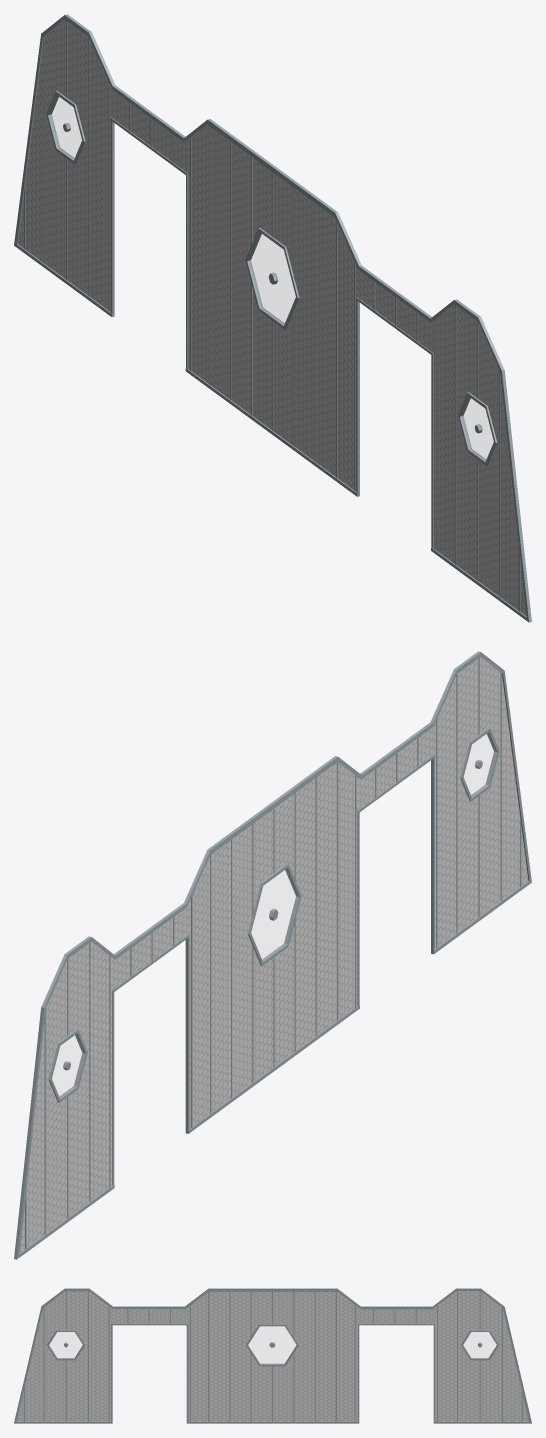
Rendered from Station01WindMetal2.FBX.
3 renders of one model, top to bottom at view 1: azimuth 30°, elevation 25°; view 2: azimuth 150°, elevation 25°; view 3: azimuth 270°, elevation 25°, orthographic. The views are drawn at different scales.
Visible parts, largest first — view 1: Station01WindGlass2, Station01WindMetal2, Station01Window2, Station01WindowMtl2; view 2: Station01WindGlass2, Station01WindMetal2, Station01Window2, Station01WindowMtl2; view 3: Station01WindGlass2, Station01WindMetal2, Station01Window2, Station01WindowMtl2.
Part boxes in pixels (x1,y1,x2,y2): Station01WindGlass2: (18, 19, 526, 616); Station01WindMetal2: (14, 14, 531, 622); Station01Window2: (50, 97, 493, 459); Station01WindowMtl2: (46, 91, 497, 465); Station01WindGlass2: (20, 656, 528, 1252); Station01WindMetal2: (14, 651, 531, 1259); Station01Window2: (52, 733, 494, 1096); Station01WindowMtl2: (48, 728, 499, 1102); Station01WindGlass2: (16, 1291, 528, 1421); Station01WindMetal2: (14, 1288, 531, 1423); Station01Window2: (49, 1327, 496, 1363); Station01WindowMtl2: (47, 1324, 499, 1366).
Bounding box in the file's own units: 150 × 10116 × 35270.
